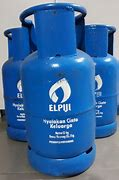blue_gas: (19, 3, 97, 177), (75, 25, 119, 139), (2, 29, 43, 141)
